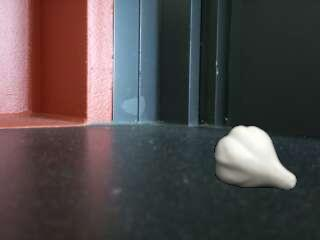Garlic: (211, 123, 298, 191)
